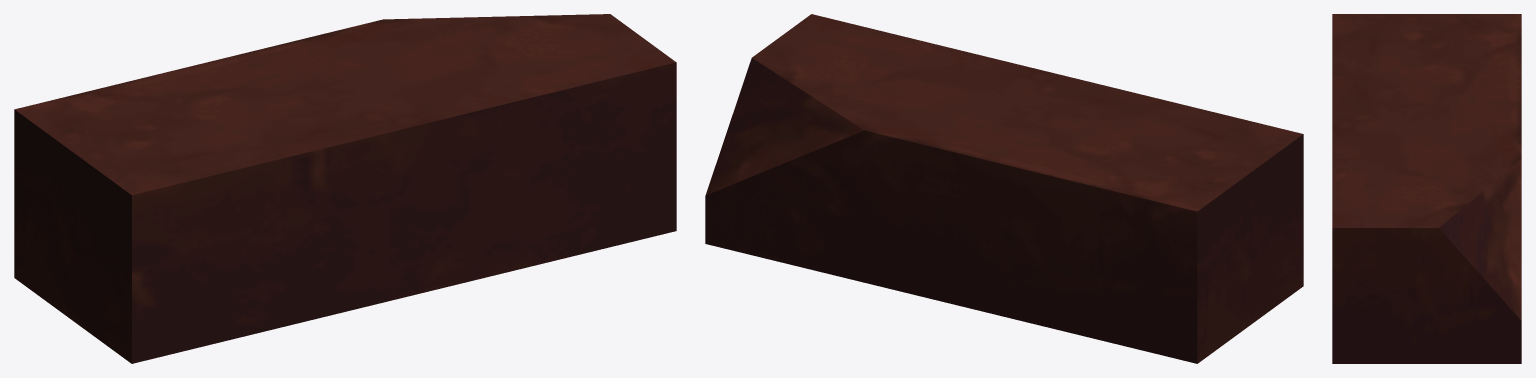
The model's file is zhuankuai02.FBX.
3 views of the same model, side by side, from view 1: azimuth 30°, elevation 25°; view 2: azimuth 150°, elevation 25°; view 3: azimuth 270°, elevation 25° (orthographic). The views are drawn at different scales.
Parts seen in each view (by area): view 1: zhuankuai02; view 2: zhuankuai02; view 3: zhuankuai02.
Part boxes in pixels (x1=…): zhuankuai02: x1=14, y1=14, x2=676, y2=363; zhuankuai02: x1=705, y1=14, x2=1303, y2=363; zhuankuai02: x1=1332, y1=14, x2=1521, y2=363.
Bounding box in the file's own units: 245 × 91.37 × 72.39.
1 material, 1 textured.
